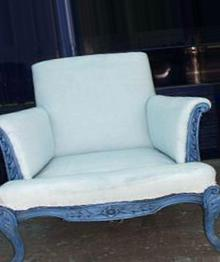chair: (1, 50, 219, 261)
